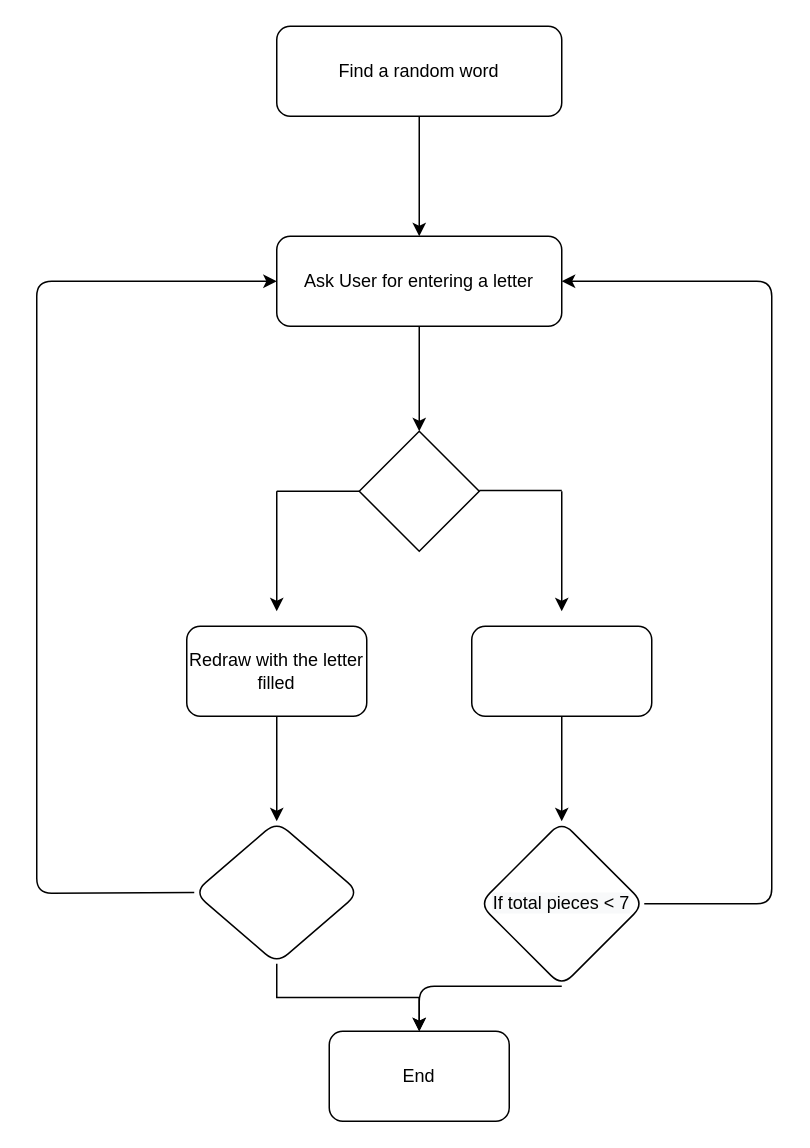
The diagram is 810 pixels wide and 1148 high, and some of its shapes have lost their labels. The centre of each missing label's shape, as x and y in pixels:
Add a character to hang man: [561,670]
all letters found ?: [276,892]
if present: [418,490]
